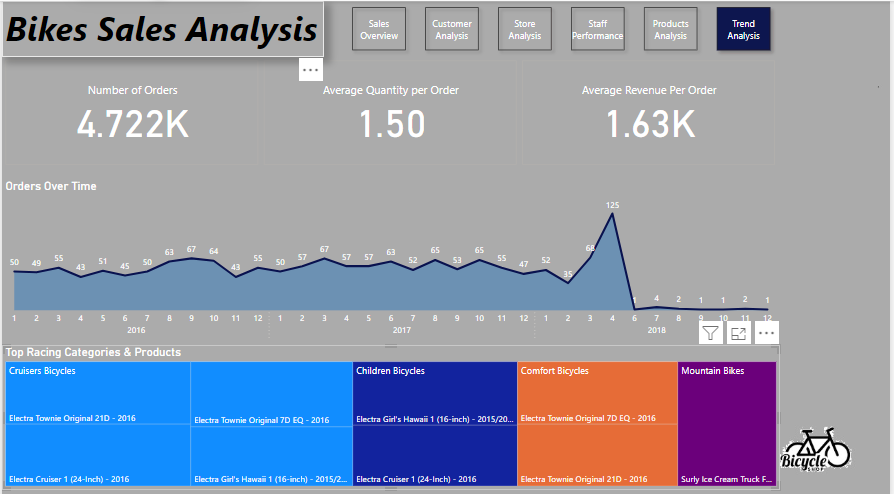

The dashboard page shown, as its layout file describes it:
{"tool":"powerbi","page":{"name":"Trend Analysis","canvas":[1280,720],"ordinal":5},"visuals":[{"type":"textbox","box":[0,0,1280,80],"z":0},{"type":"cardVisual","fields":{"Data":["CountNonNull(order_items.order_id)","Avg(order_items.quantity)","Avg(order_items.Revenue)"]},"box":[0,80,1120,160],"z":3000},{"type":"areaChart","title":"Orders Over Time","fields":{"Category":["orders.Year","orders.Month"],"Y":["CountNonNull(orders.order_id)"]},"box":[0,256,1120,240],"z":4000},{"type":"treemap","fields":{"Group":["categories.category_name"],"Values":["CountNonNull(order_items.order_id)"],"Details":["products.product_name"]},"box":[0,496,1120,208],"z":5000},{"type":"actionButton","box":[0,0,464,80],"z":5001},{"type":"pageNavigator","box":[496,0,624,80],"z":5002}]}

Visuals, with their boxes in screenshot pixels (x1, y1, x2, y2), scaled from the page's 1280x720 canvas onto the 894x494 screenshot:
textbox: pyautogui.locateOnScreen(0, 0, 893, 55)
cardVisual - CountNonNull(order_items.order_id) x Avg(order_items.quantity): pyautogui.locateOnScreen(0, 55, 782, 165)
"Orders Over Time" areaChart: pyautogui.locateOnScreen(0, 176, 782, 340)
treemap - categories.category_name x CountNonNull(order_items.order_id): pyautogui.locateOnScreen(0, 340, 782, 483)
actionButton: pyautogui.locateOnScreen(0, 0, 324, 55)
pageNavigator: pyautogui.locateOnScreen(346, 0, 782, 55)
